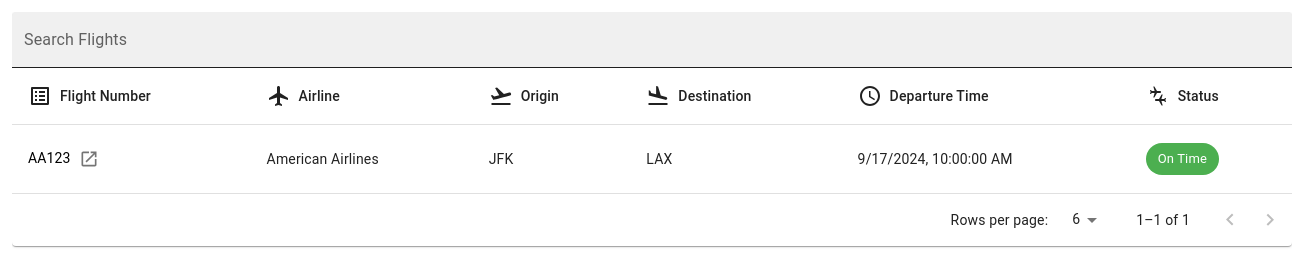
Test case: FlightBoard Component › shows a message when no flights match the search query
Step 1. Type "XYZ999" into the field labelled "Search Flights" → [652, 40], box [12,12,1292,68]
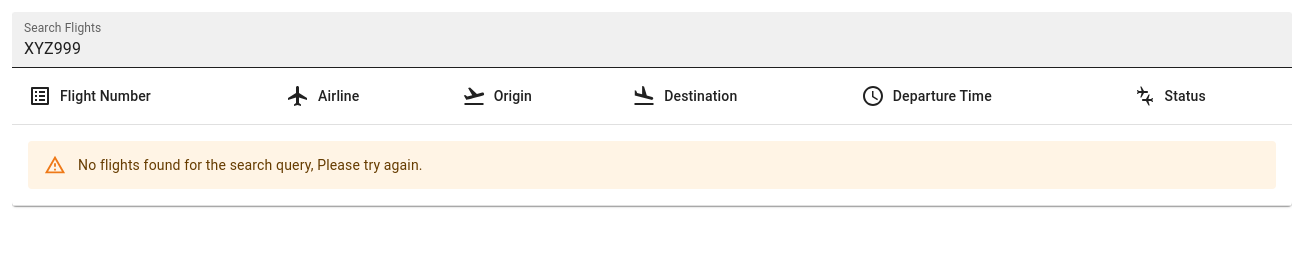
Expected: the text "No flights found for the search query, Please try again." is shown, [78,157,423,173]
